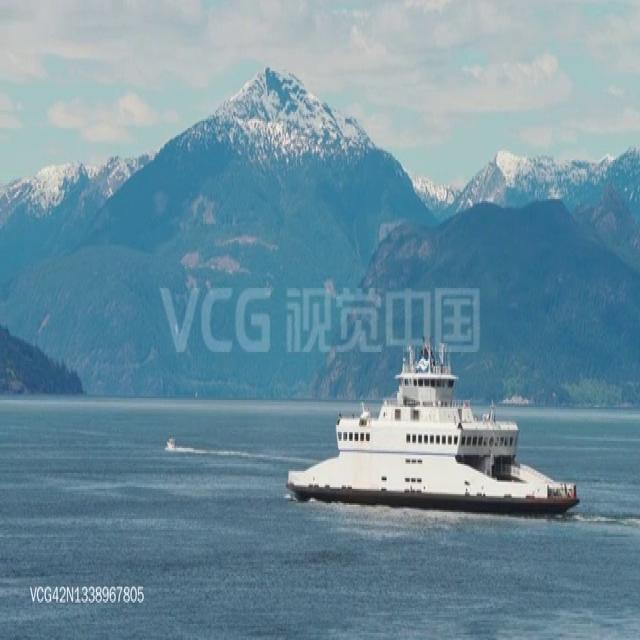passenger ship: (288, 337, 572, 510)
